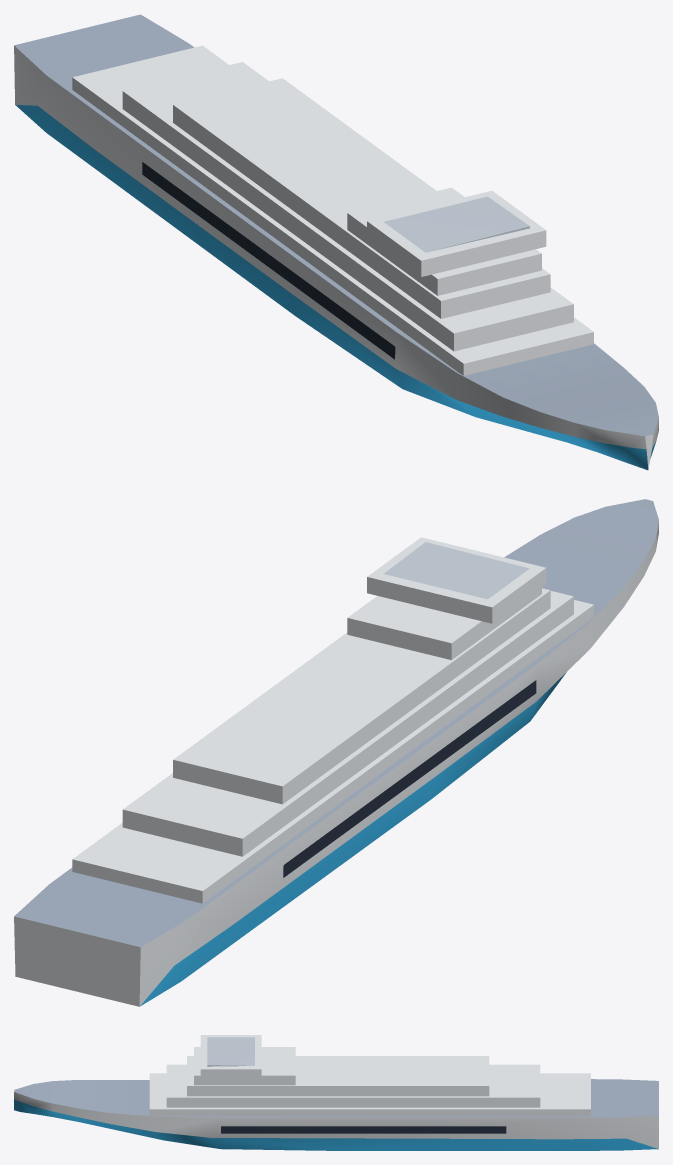
File: ferry.glb
3 views of the same model, one above another, from view 1: azimuth 30°, elevation 25°; view 2: azimuth 150°, elevation 25°; view 3: azimuth 270°, elevation 25° (orthographic). The views are drawn at different scales.
Parts seen in each view (by area): view 1: ferry; view 2: ferry; view 3: ferry.
Part boxes in pixels (<box>): ferry: <box>14,14,658,470</box>; ferry: <box>14,499,658,1006</box>; ferry: <box>14,1035,658,1150</box>.
Bounding box in the file's own units: 27.11 × 26.4 × 190.
1 material, 1 textured.
